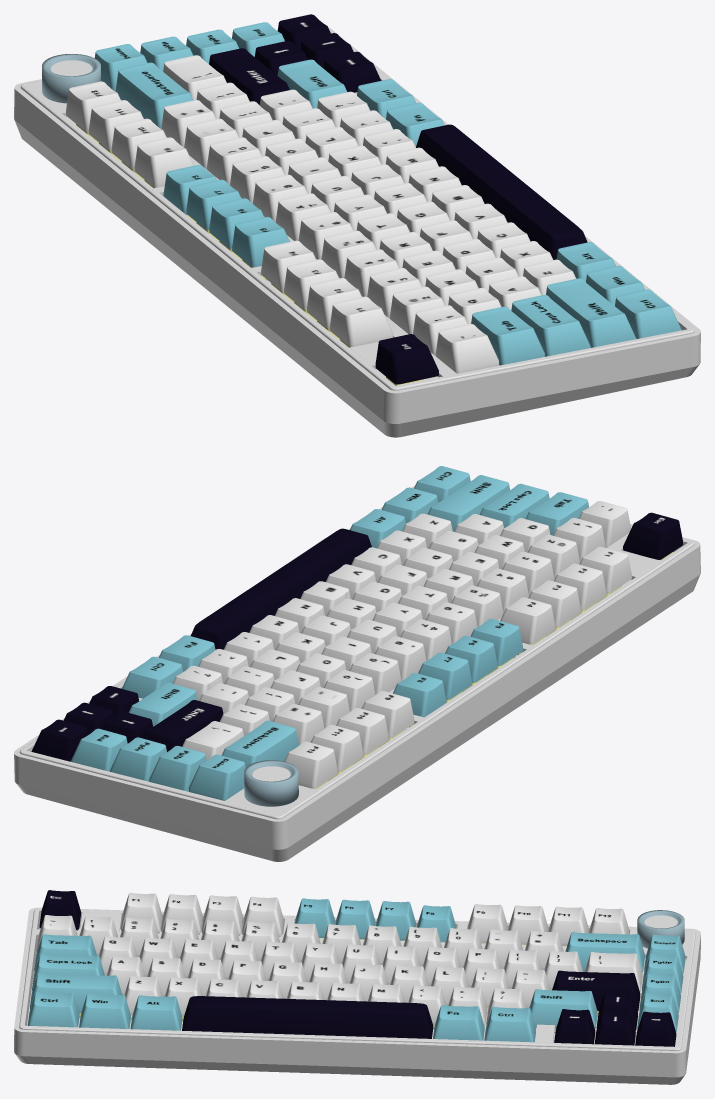
The model's file is mechanical_keyboard.glb.
3 views of the same model, one above another, from view 1: azimuth 30°, elevation 25°; view 2: azimuth 150°, elevation 25°; view 3: azimuth 270°, elevation 25° (orthographic). The views are drawn at different scales.
Parts seen in each view (by area): view 1: Board, Plane, Keycap.050, Keycap.028, Keycap.036, Keycap.001, Keycap, Keycap.002, Keycap.015, Keycap.062, Keycap.063, Roller (+70 smaller); view 2: Board, Plane, Roller, Keycap.028, Keycap.050, Keycap, Keycap.062, Keycap.029, Keycap.013, Keycap.005, Keycap.014, Keycap.036 (+70 smaller); view 3: Board, Plane, Keycap.062, Keycap.050, Keycap.074, Keycap.028, Keycap.076, Keycap.079, Keycap.063, Keycap.075, Keycap.077, Keycap.036 (+71 smaller).
Boxes of the visible parts, bbox=[...] form: Board: bbox=[14, 27, 700, 437]; Plane: bbox=[416, 124, 587, 259]; Keycap.050: bbox=[546, 278, 636, 347]; Keycap.028: bbox=[115, 62, 193, 128]; Keycap.036: bbox=[511, 295, 590, 356]; Keycap.001: bbox=[471, 306, 544, 365]; Keycap: bbox=[375, 334, 438, 384]; Keycap.002: bbox=[329, 296, 393, 346]; Keycap.015: bbox=[435, 324, 498, 373]; Keycap.062: bbox=[209, 48, 289, 104]; Keycap.063: bbox=[615, 289, 681, 338]; Roller: bbox=[42, 54, 100, 103]; Board: bbox=[14, 485, 700, 861]; Plane: bbox=[191, 528, 371, 649]; Roller: bbox=[244, 760, 298, 806]; Keycap.028: bbox=[221, 720, 298, 767]; Keycap.050: bbox=[427, 475, 509, 531]; Keycap: bbox=[623, 512, 682, 559]; Keycap.062: bbox=[142, 700, 223, 751]; Keycap.029: bbox=[188, 754, 245, 800]; Keycap.013: bbox=[284, 741, 337, 788]; Keycap.005: bbox=[500, 597, 555, 644]; Keycap.014: bbox=[149, 745, 206, 791]; Keycap.036: bbox=[479, 483, 549, 527]; Board: bbox=[14, 907, 700, 1084]; Plane: bbox=[182, 996, 433, 1038]; Keycap.062: bbox=[552, 970, 640, 1011]; Keycap.050: bbox=[30, 973, 122, 1013]; Keycap.074: bbox=[529, 989, 597, 1029]; Keycap.028: bbox=[565, 932, 644, 972]; Keycap.076: bbox=[130, 995, 182, 1030]; Keycap.079: bbox=[433, 1005, 484, 1040]; Keycap.063: bbox=[27, 992, 79, 1027]; Keycap.075: bbox=[79, 993, 130, 1028]; Keycap.077: bbox=[484, 1006, 535, 1042]; Keycap.036: bbox=[32, 953, 104, 990].
Bounding box in the file's own units: 0.1453 × 0.0344 × 0.3128.
Materials: 15 (3 with a texture image).
